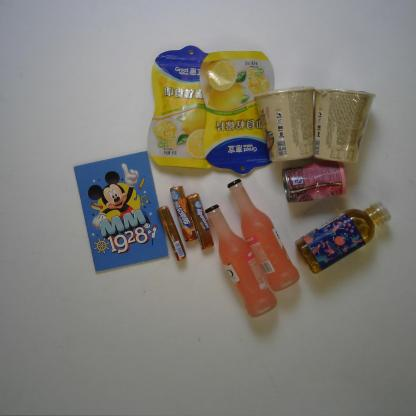Alcohol: (204, 203, 278, 319), (227, 178, 301, 293)
Candy: (156, 204, 187, 262), (186, 192, 215, 250), (170, 184, 198, 243)
Canned Food: (281, 161, 348, 204)
Dried Fruit: (197, 46, 277, 177), (146, 44, 214, 169)
Drink: (294, 199, 394, 276)
Instant Noodles: (252, 85, 316, 163), (314, 87, 376, 164)
Stationery: (72, 149, 170, 274)
